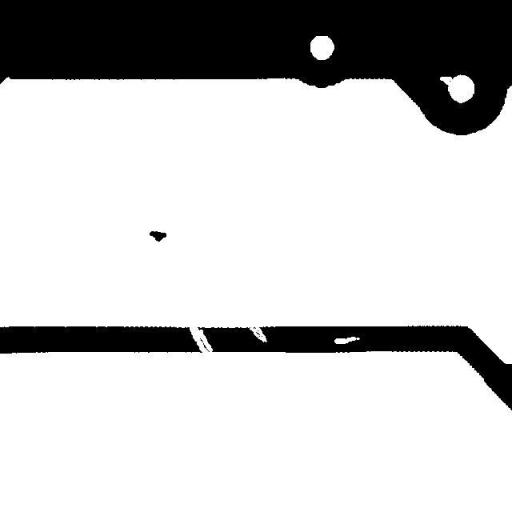copper: (142, 223, 174, 249)
mousebite: (242, 316, 274, 350), (432, 69, 459, 93)
open: (182, 316, 220, 362)
pin-hole: (326, 329, 368, 351)
